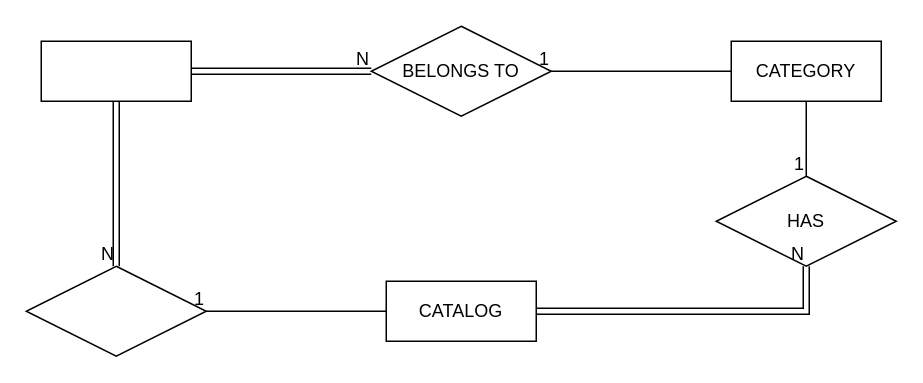
The diagram is 923 pixels wide and 383 high, and some of its shapes have lost their labels. The shapes that lost their labels are listed below. From the top down, each one's box as (x1, y1, x2, y2) in pixels, then its label:
(40, 40, 191, 101): ASSETS
(25, 265, 206, 356): BELONGS TO/HAS
